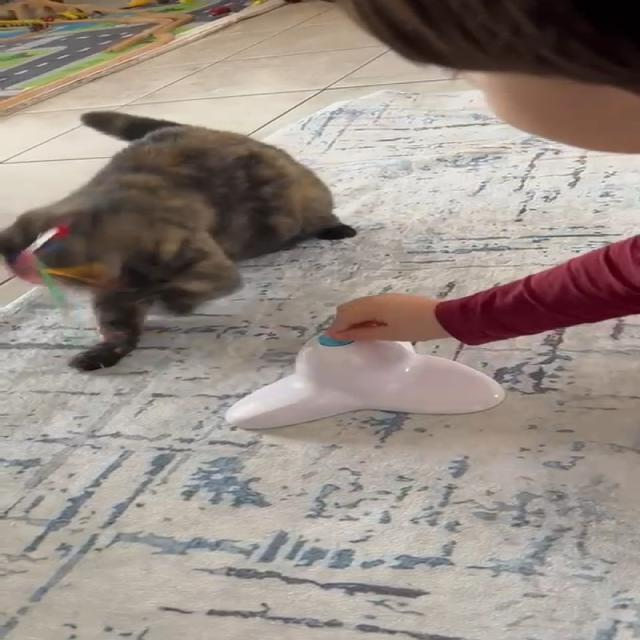authorized: (0, 110, 356, 372)
